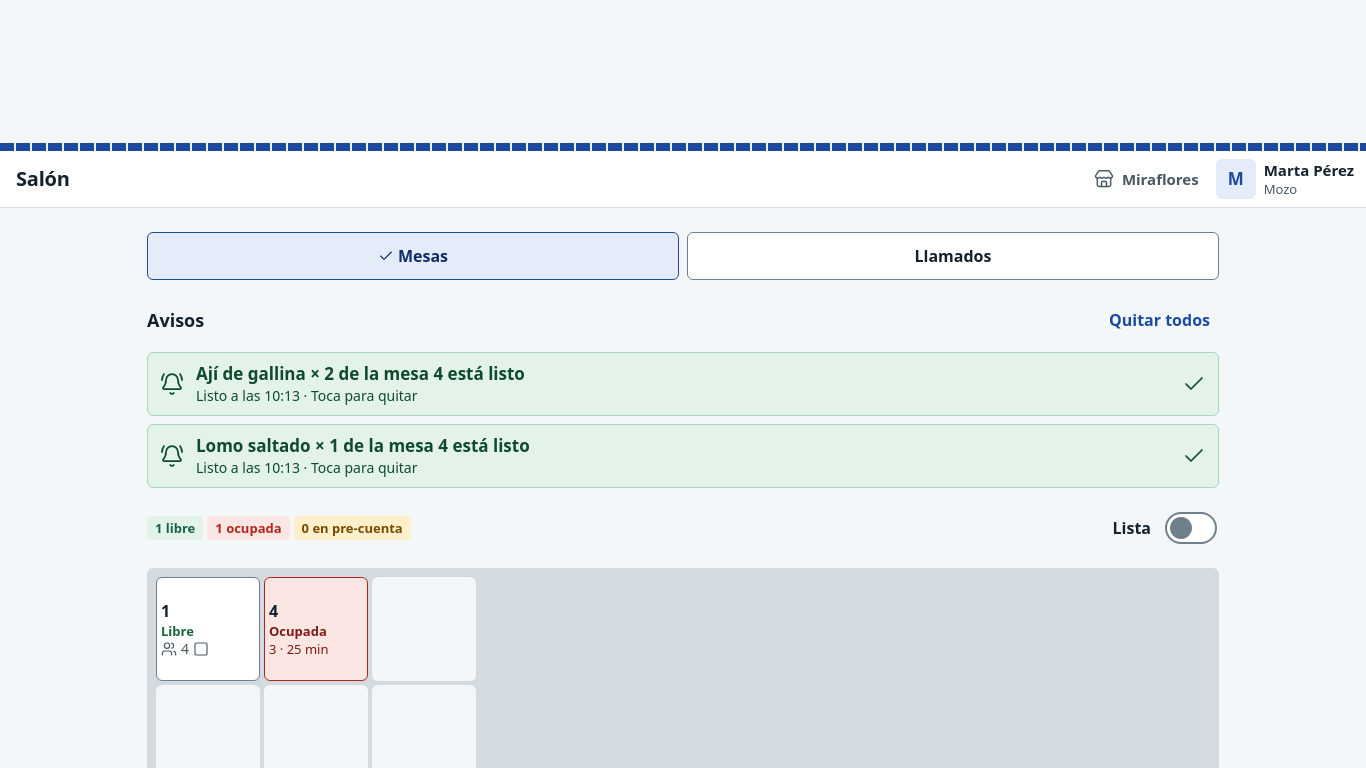
Scenario: Avisos de "Listo" en el salón (criterios 60 y 98) › el aviso se queda hasta que se toca y entonces sale de la lista
(page scrolled)
Expected: the button named "Toca para quitar el aviso" shows "Lomo saltado × 1 de la mesa 4 está listo", [147,424,1219,488]
Click the button named "Toca para quitar el aviso" at (360, 374), box [147,352,1219,416]
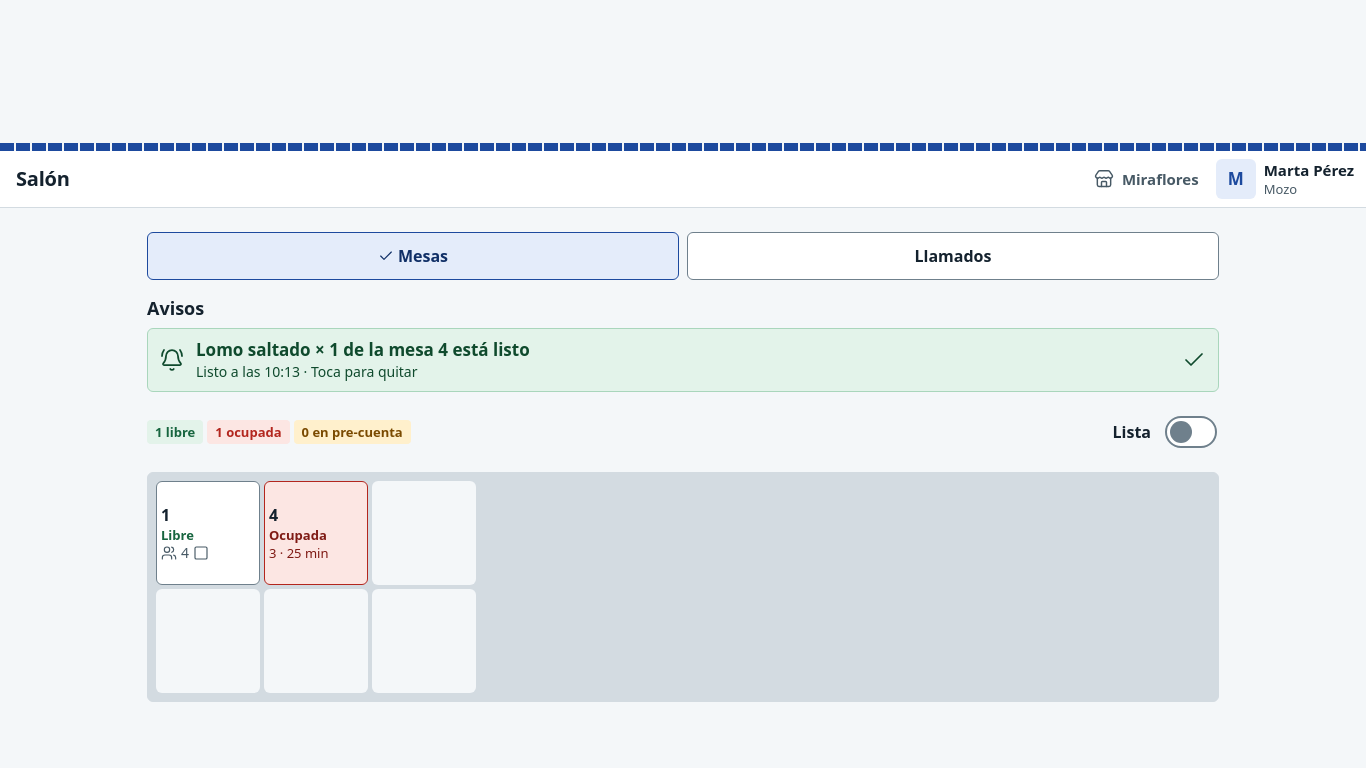
Expected: the number of buttons named "Toca para quitar el aviso" is 1
Click the button named "Toca para quitar el aviso" at (363, 350), box [147,328,1219,392]
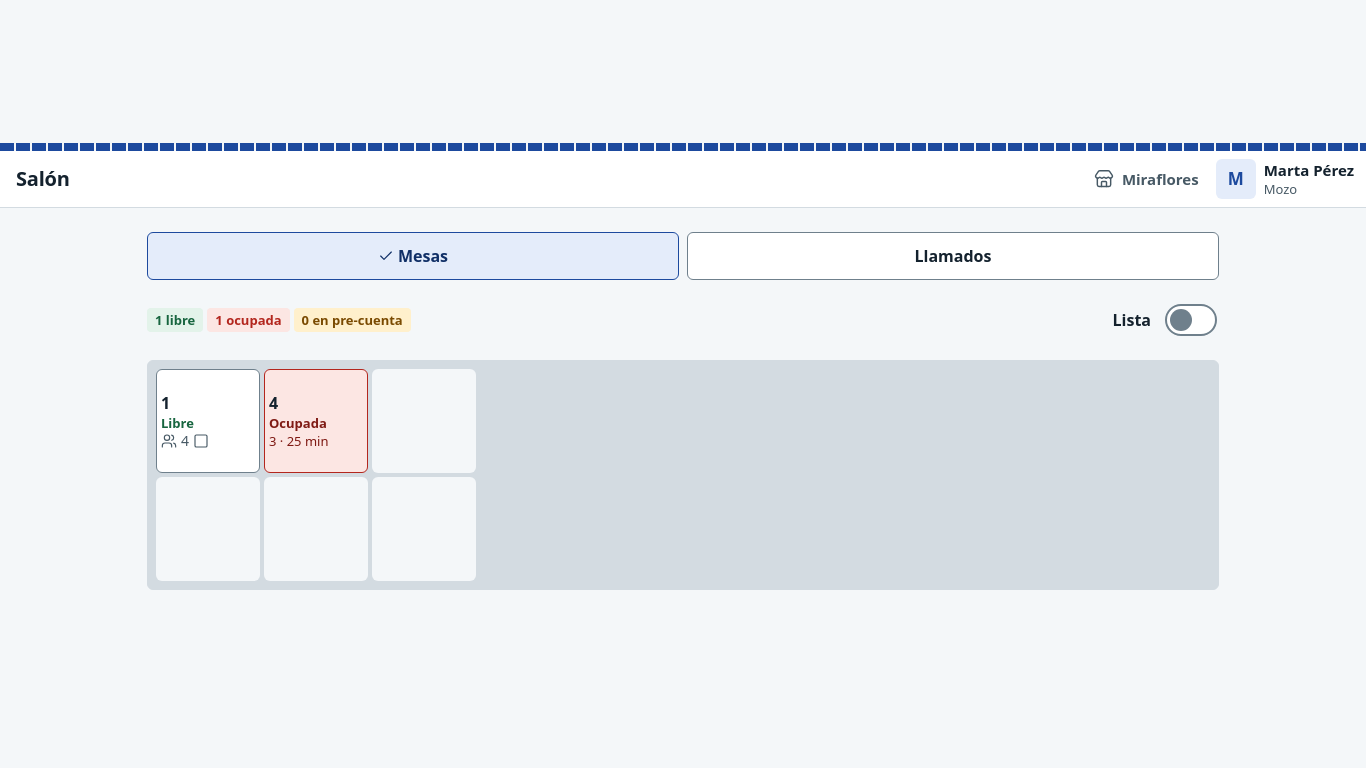
Expected: the heading "Avisos" is gone
